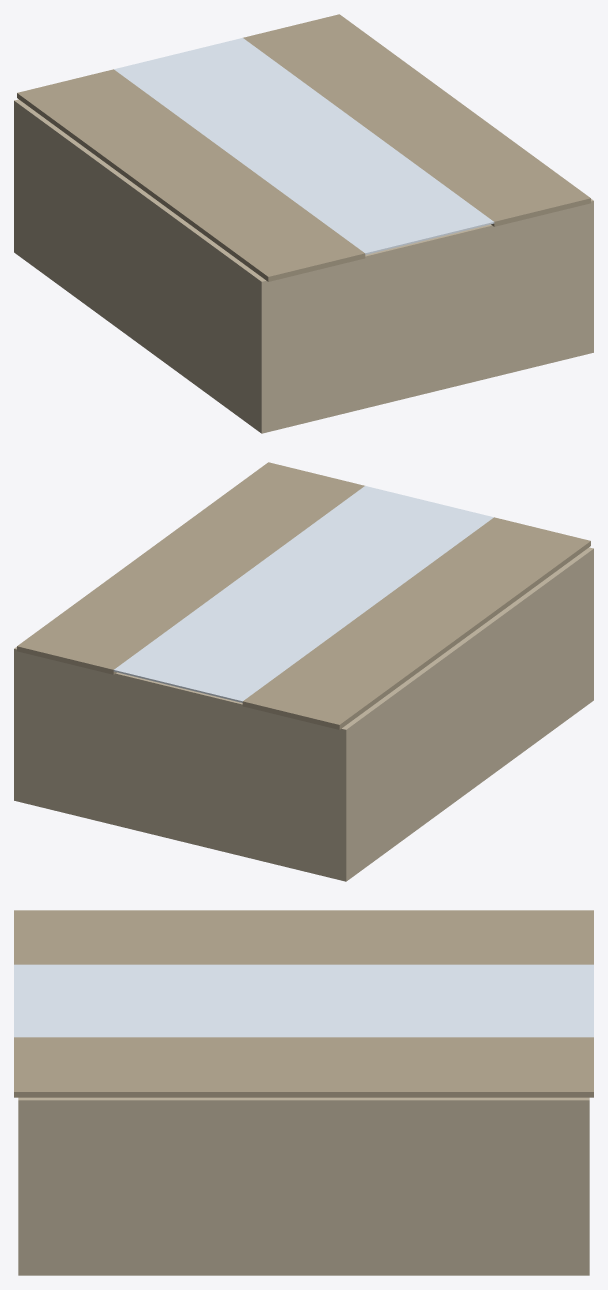
Rendered from Escenario_HistoriaNatural.fbx.
The picture shows the model from 3 angles, top to bottom: view 1: azimuth 30°, elevation 25°; view 2: azimuth 150°, elevation 25°; view 3: azimuth 270°, elevation 25°; orthographic projection. The views are drawn at different scales.
Visible parts, largest first — view 1: Escenario_HistoriaNatural_Pared, Escenario_HistoriaNatural_Techo, Escenario_HistoriaNatural_Tragaluz_Brillo; view 2: Escenario_HistoriaNatural_Pared, Escenario_HistoriaNatural_Techo, Escenario_HistoriaNatural_Tragaluz_Brillo; view 3: Escenario_HistoriaNatural_Pared, Escenario_HistoriaNatural_Techo, Escenario_HistoriaNatural_Tragaluz_Brillo.
Part boxes in pixels (bbox=[...]): Escenario_HistoriaNatural_Pared: bbox=[14, 99, 593, 433]; Escenario_HistoriaNatural_Techo: bbox=[17, 14, 590, 281]; Escenario_HistoriaNatural_Tragaluz_Brillo: bbox=[114, 38, 494, 254]; Escenario_HistoriaNatural_Pared: bbox=[14, 547, 593, 881]; Escenario_HistoriaNatural_Techo: bbox=[17, 462, 590, 729]; Escenario_HistoriaNatural_Tragaluz_Brillo: bbox=[113, 486, 493, 702]; Escenario_HistoriaNatural_Pared: bbox=[18, 1097, 589, 1275]; Escenario_HistoriaNatural_Techo: bbox=[14, 910, 593, 1097]; Escenario_HistoriaNatural_Tragaluz_Brillo: bbox=[14, 964, 593, 1037].
Size of the model in its own units: 41.2 by 18.8 by 54.
